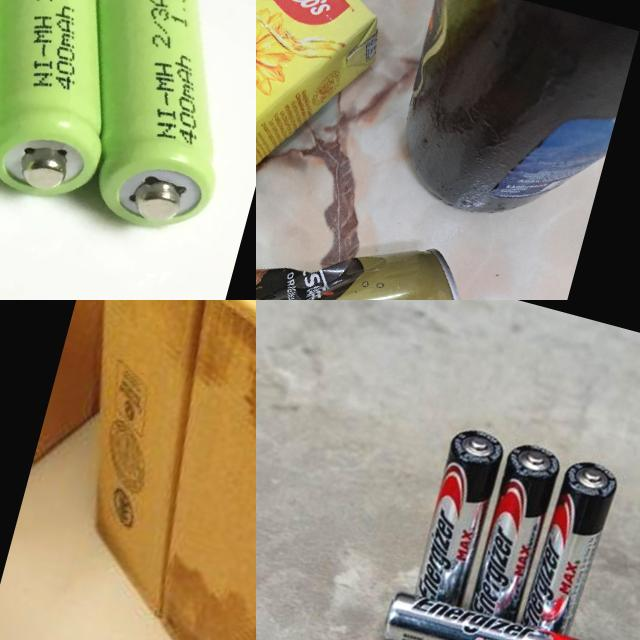bateria: (36, 0, 256, 243), (0, 0, 158, 212), (518, 453, 622, 638), (465, 437, 563, 622), (409, 422, 506, 606), (378, 587, 610, 640)
caixinha: (256, 0, 398, 268), (256, 0, 362, 53)
lata: (382, 0, 638, 239), (256, 177, 490, 300)
papelão: (0, 300, 256, 640)
